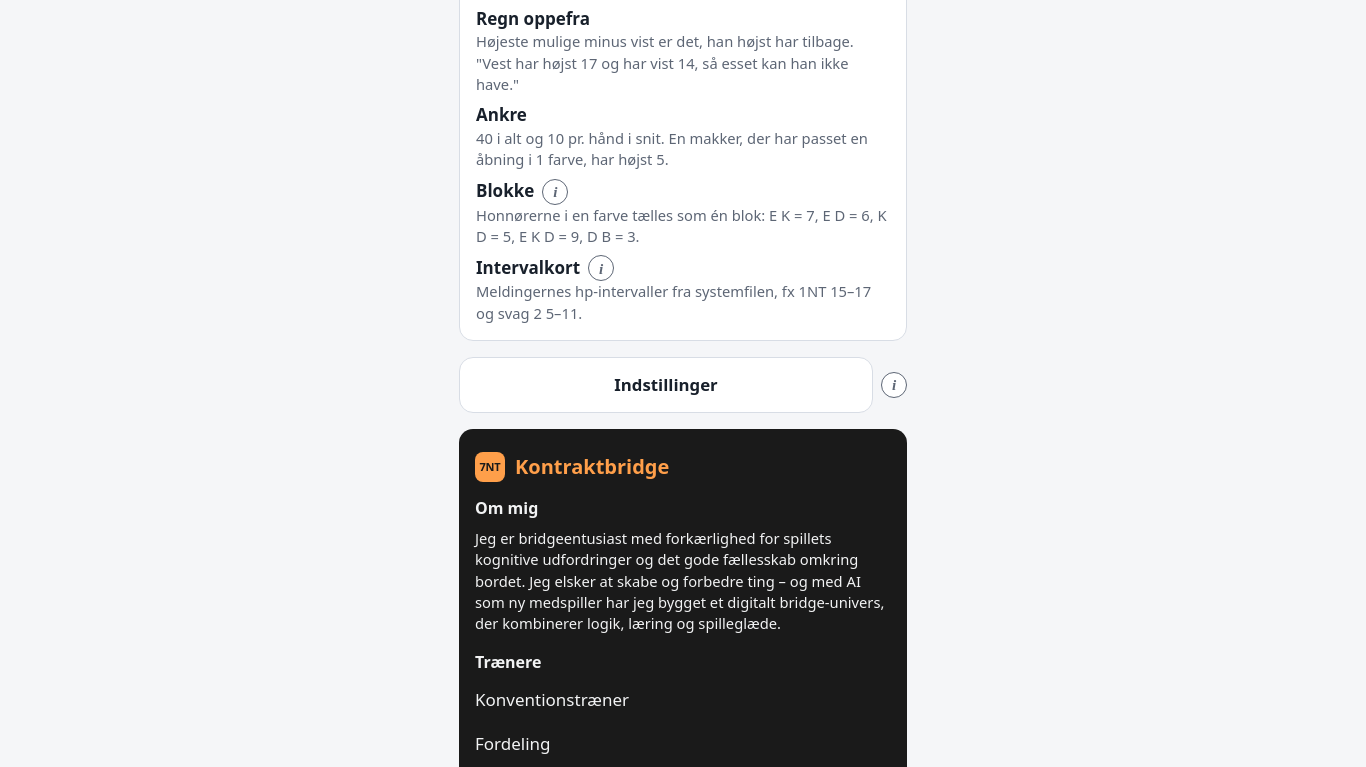
Test: ⓘ ved elementerne › forsiden: titlen, dagens plan, startknappen, husketeknikkerne, blokke, intervalkort og indstillinger; data i indstillinger
(page scrolled)
Expected: the button named "Hjælp: Indstillinger" is shown, [881,372,907,398]
Click the button "Indstillinger" at (666, 385), box [459,357,873,413]
(page scrolled)
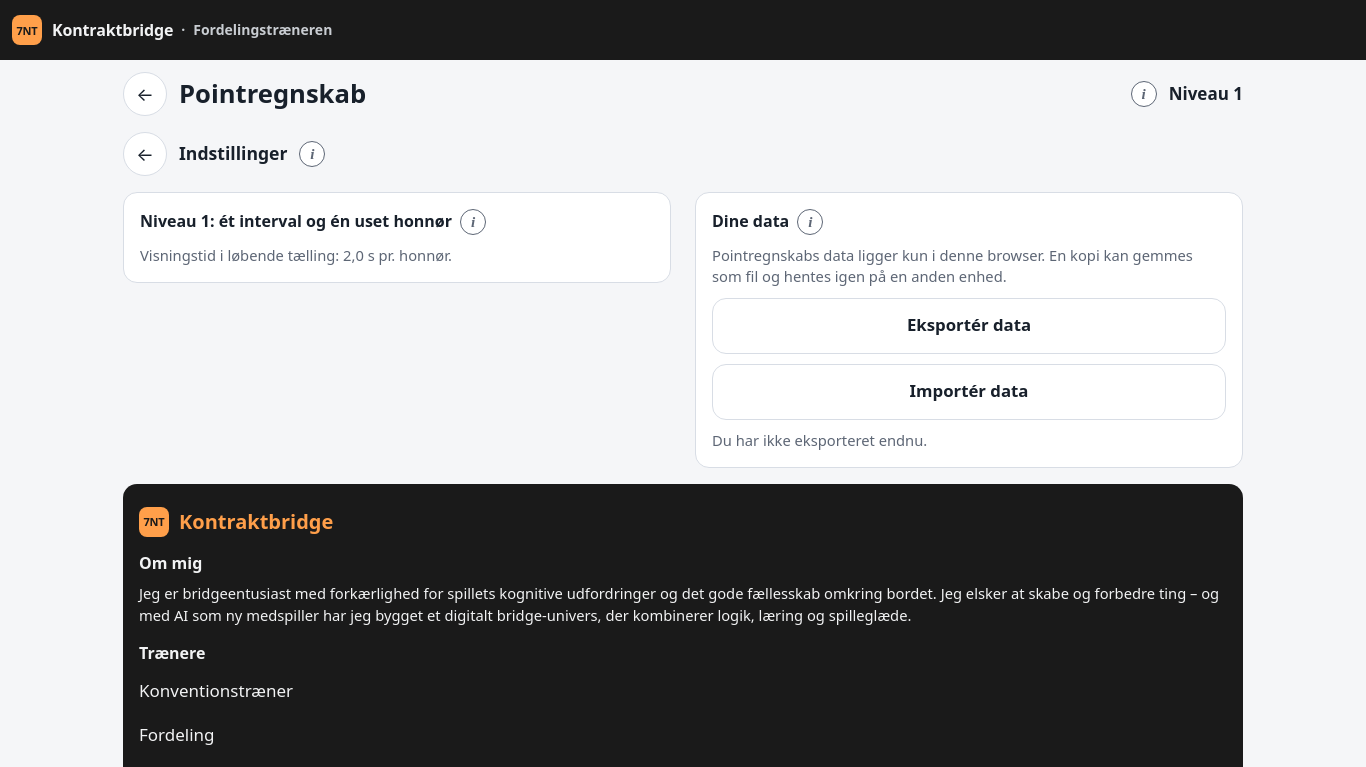
Result: the button named "Hjælp: Niveau" is shown at [460,209,486,235]
